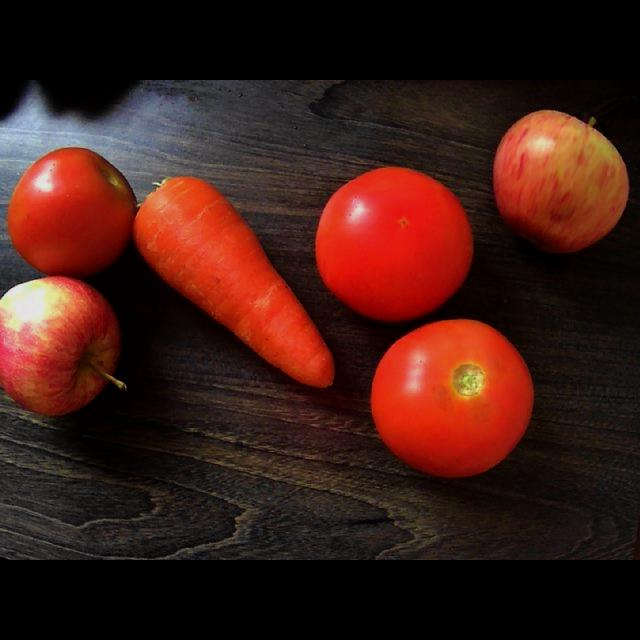manzana: (494, 110, 629, 253), (1, 276, 127, 415)
tomate: (373, 319, 533, 476), (316, 168, 473, 321), (8, 147, 136, 277)
zanahoria: (134, 176, 335, 387)
